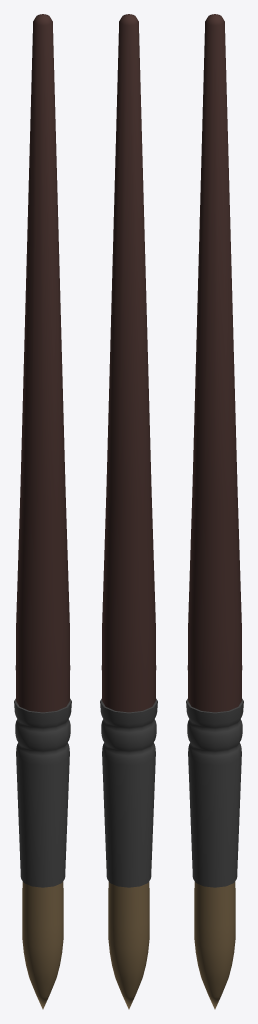
The model's file is 3d-deform-brush.obj.
The picture shows the model from 3 angles, left to right: view 1: azimuth 90°, elevation 25°; view 2: azimuth 210°, elevation 25°; view 3: azimuth 270°, elevation 25°; orthographic projection.
Size of the model in its own units: 0.889 by 16.86 by 0.889.
